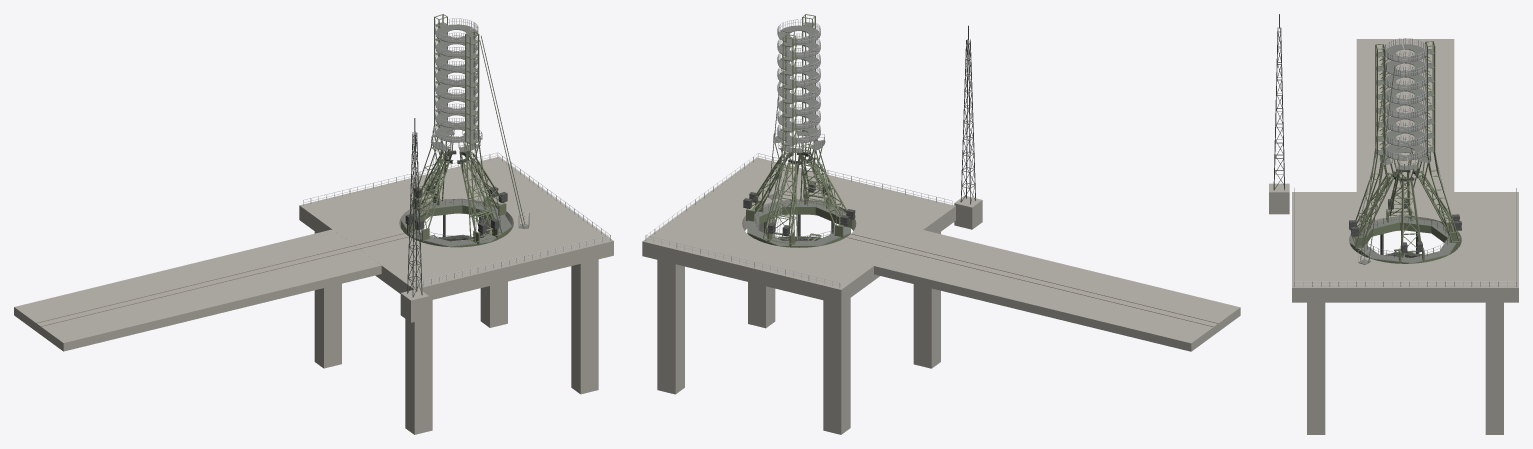
Rendered from pad.lod2.glb.
3 views of the same model, side by side, from view 1: azimuth 30°, elevation 25°; view 2: azimuth 150°, elevation 25°; view 3: azimuth 270°, elevation 25° (orthographic).
Visible parts, largest first — view 1: Platform_Concrete, RailApproach_Concrete, SouthServiceTower_Frame_Green, SouthServiceTower_Frame_Deck, NorthServiceTower_Frame_Deck, PadMast_Dark, LaunchRing_Deck, Platform_Galv, SouthServiceTower_Frame_Galv, NorthServiceTower_Frame_Galv, Support_2_Green, PadMast_Concrete (+5 smaller); view 2: Platform_Concrete, RailApproach_Concrete, NorthServiceTower_Frame_Deck, NorthServiceTower_Frame_Green, SouthServiceTower_Frame_Deck, LaunchRing_Deck, PadMast_Dark, Platform_Galv, NorthServiceTower_Frame_Galv, LaunchRing_Green, SouthServiceTower_Frame_Green, RailApproach_Rail (+5 smaller); view 3: Platform_Concrete, RailApproach_Concrete, SouthServiceTower_Frame_Deck, NorthServiceTower_Frame_Deck, SouthServiceTower_Frame_Green, LaunchRing_Deck, NorthServiceTower_Frame_Green, NorthServiceTower_Frame_Galv, SouthServiceTower_Frame_Galv, LaunchRing_Green, PadMast_Dark, Platform_Galv (+7 smaller).
Part boxes in pixels (left/top/right/bottom): Platform_Concrete: left=299, top=156, right=613, bottom=434; RailApproach_Concrete: left=14, top=229, right=381, bottom=351; SouthServiceTower_Frame_Green: left=463, top=31, right=524, bottom=242; SouthServiceTower_Frame_Deck: left=440, top=28, right=477, bottom=144; NorthServiceTower_Frame_Deck: left=435, top=22, right=472, bottom=138; PadMast_Dark: left=407, top=118, right=422, bottom=297; LaunchRing_Deck: left=401, top=198, right=511, bottom=246; Platform_Galv: left=303, top=152, right=610, bottom=287; SouthServiceTower_Frame_Galv: left=440, top=22, right=478, bottom=141; NorthServiceTower_Frame_Galv: left=435, top=18, right=473, bottom=137; Support_2_Green: left=411, top=146, right=449, bottom=229; PadMast_Concrete: left=400, top=288, right=429, bottom=322; Platform_Concrete: left=642, top=157, right=955, bottom=434; RailApproach_Concrete: left=874, top=230, right=1240, bottom=351; NorthServiceTower_Frame_Deck: left=778, top=31, right=818, bottom=146; NorthServiceTower_Frame_Green: left=763, top=34, right=797, bottom=244; SouthServiceTower_Frame_Deck: left=779, top=22, right=819, bottom=137; LaunchRing_Deck: left=747, top=199, right=850, bottom=245; PadMast_Dark: left=960, top=25, right=975, bottom=204; Platform_Galv: left=645, top=153, right=952, bottom=287; NorthServiceTower_Frame_Galv: left=777, top=26, right=818, bottom=142; LaunchRing_Green: left=747, top=206, right=850, bottom=247; SouthServiceTower_Frame_Green: left=768, top=14, right=834, bottom=206; RailApproach_Rail: left=847, top=234, right=1217, bottom=326; Platform_Concrete: left=1292, top=192, right=1518, bottom=434; RailApproach_Concrete: left=1356, top=39, right=1454, bottom=191; SouthServiceTower_Frame_Deck: left=1376, top=44, right=1407, bottom=160; NorthServiceTower_Frame_Deck: left=1403, top=44, right=1433, bottom=160; SouthServiceTower_Frame_Green: left=1352, top=44, right=1395, bottom=263; LaunchRing_Deck: left=1351, top=216, right=1459, bottom=263; NorthServiceTower_Frame_Green: left=1424, top=41, right=1459, bottom=242; NorthServiceTower_Frame_Galv: left=1403, top=38, right=1426, bottom=159; SouthServiceTower_Frame_Galv: left=1384, top=38, right=1407, bottom=159; LaunchRing_Green: left=1350, top=222, right=1460, bottom=263; PadMast_Dark: left=1273, top=14, right=1284, bottom=190; Platform_Galv: left=1294, top=188, right=1516, bottom=286.
Bounding box in the file's own units: 103 × 66.58 × 43.6.
